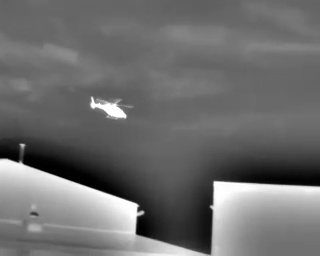HELICOPTER: (87, 90, 138, 128)
